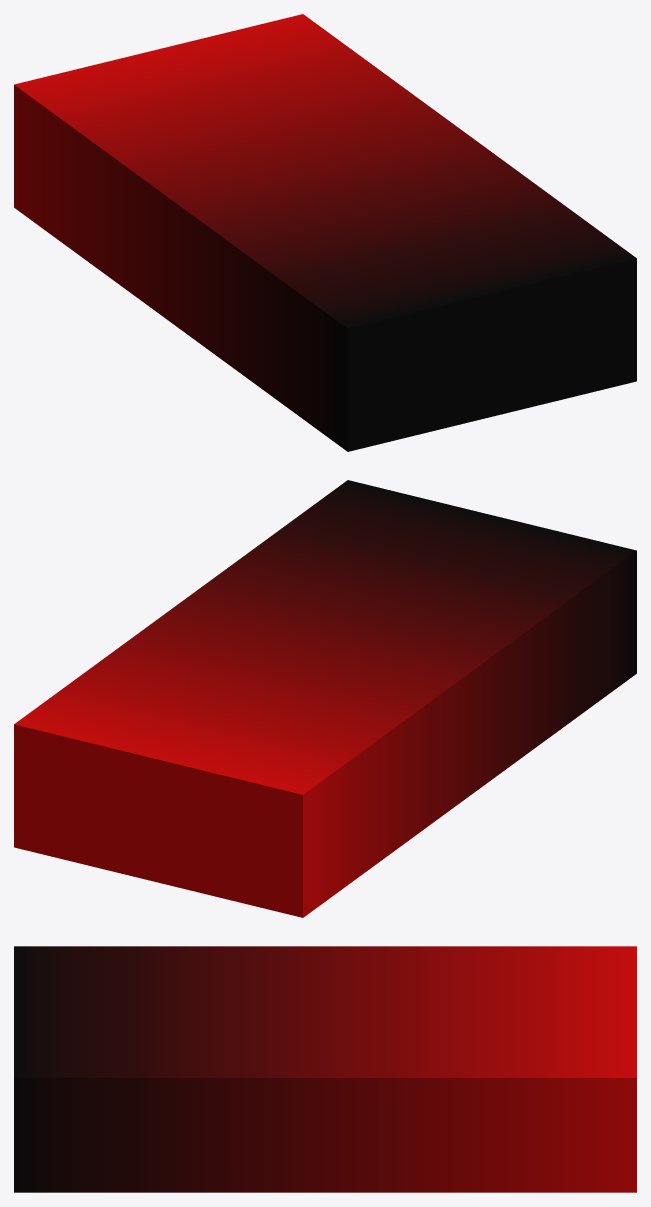
The model's file is Grass5.fbx.
The picture shows the model from 3 angles, top to bottom: view 1: azimuth 30°, elevation 25°; view 2: azimuth 150°, elevation 25°; view 3: azimuth 270°, elevation 25°; orthographic projection. The views are drawn at different scales.
Visible parts, largest first — view 1: Grass5; view 2: Grass5; view 3: Grass5.
Boxes of the visible parts, x1,y1,x2,y2 form: Grass5: (14,14,636,451); Grass5: (14,480,636,917); Grass5: (14,946,636,1192).
Size of the model in its own units: 0.6652 by 0.2705 by 1.33.
